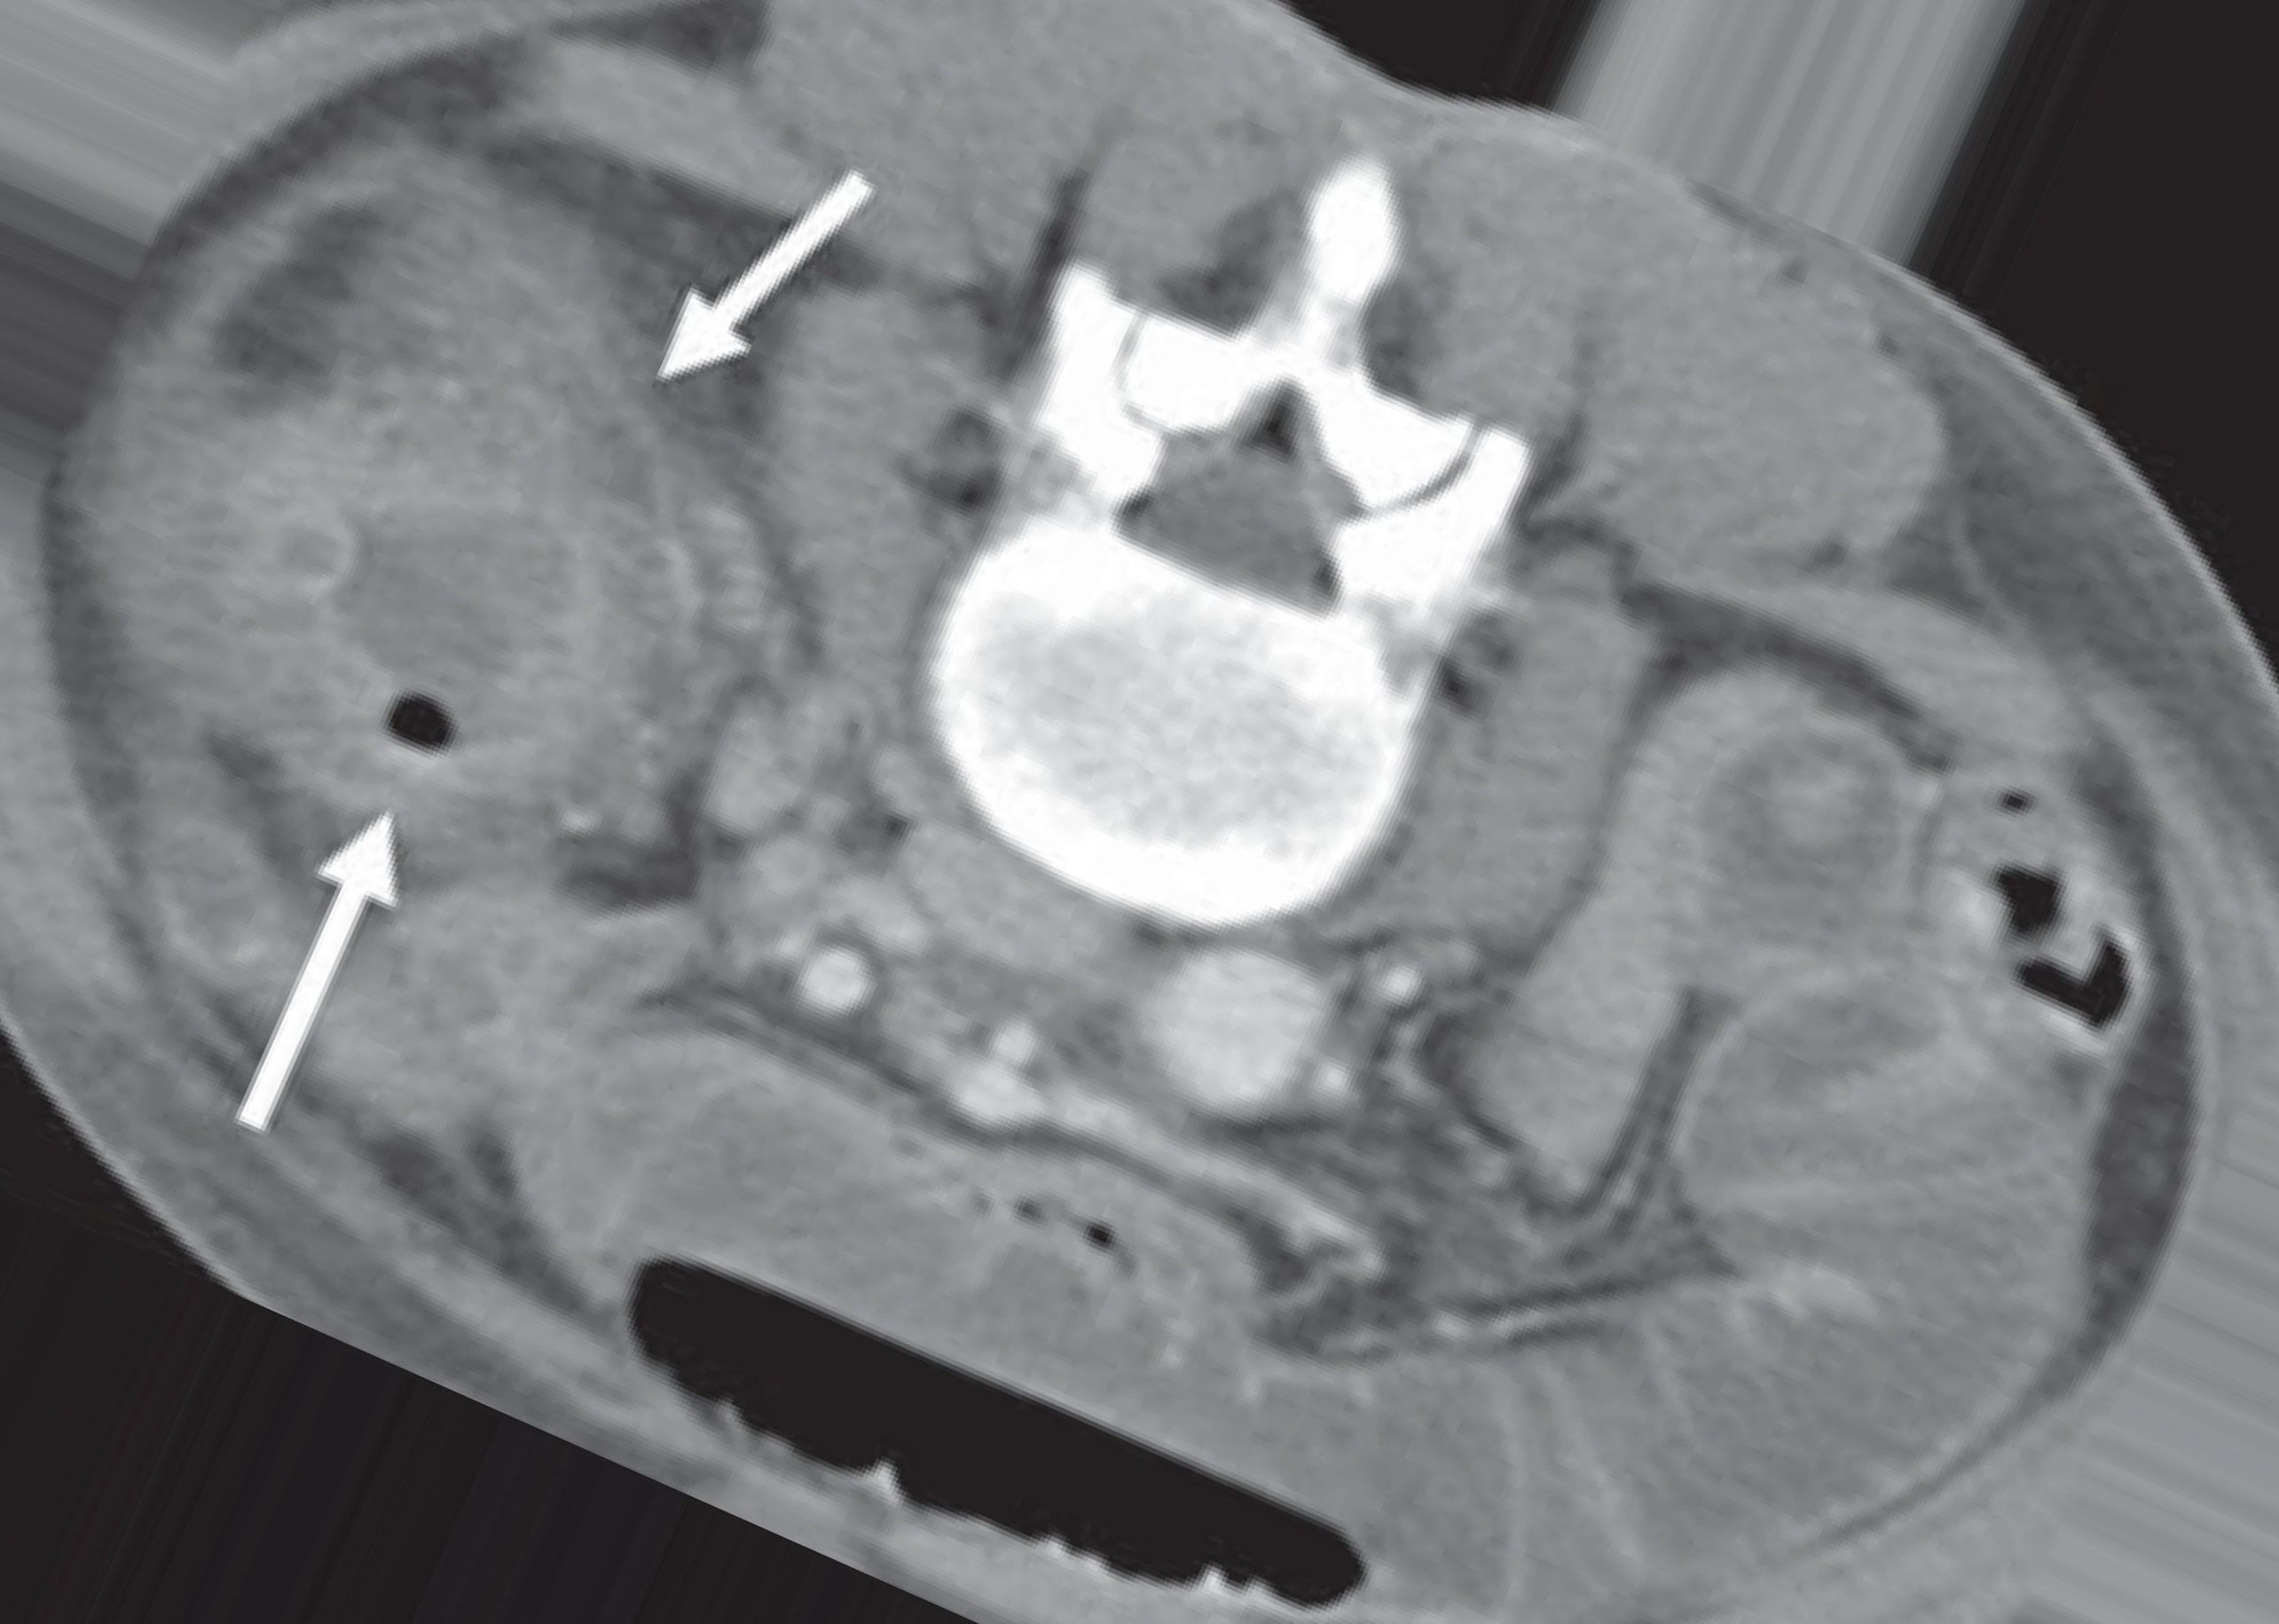anomaly: (309, 485, 613, 700)
